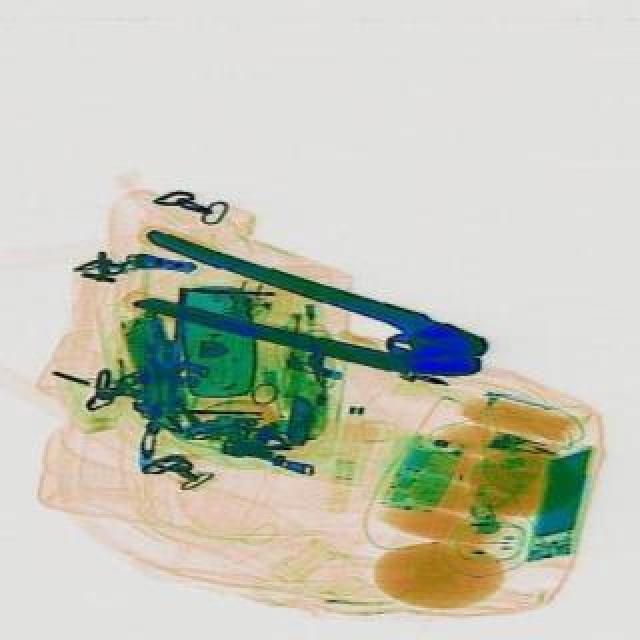wrench: (122, 228, 494, 400)
